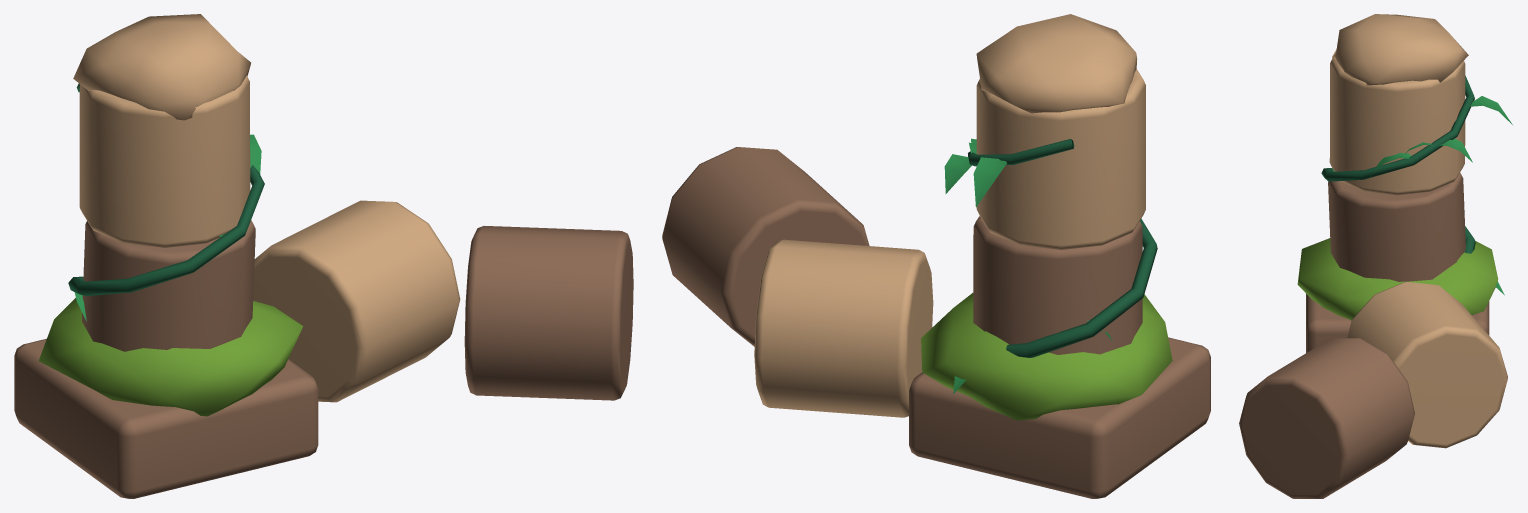
The model's file is jungle_column_broken.glb.
3 views of the same model, side by side, from view 1: azimuth 30°, elevation 25°; view 2: azimuth 150°, elevation 25°; view 3: azimuth 270°, elevation 25° (orthographic). The views are drawn at different scales.
Visible parts, largest first — view 1: ColumnBroken; view 2: ColumnBroken; view 3: ColumnBroken.
Part boxes in pixels (<box>): ColumnBroken: <box>14,14,633,498</box>; ColumnBroken: <box>662,14,1210,498</box>; ColumnBroken: <box>1239,14,1512,498</box>.
Size of the model in its own units: 3.5 by 2.54 by 1.95.
